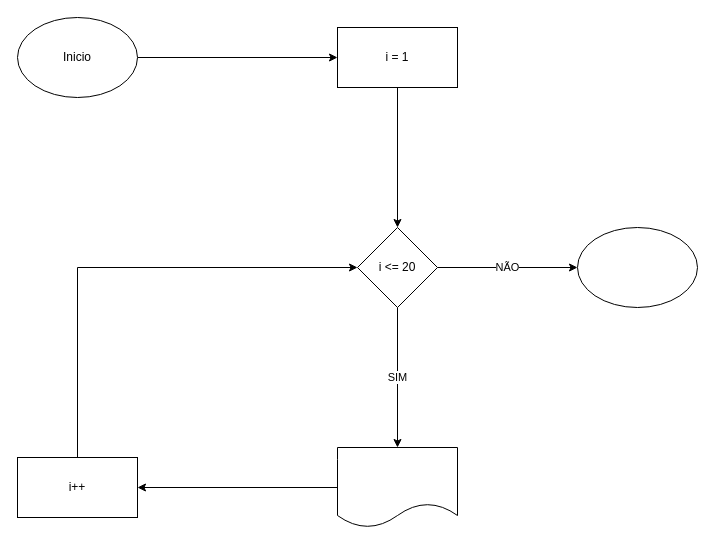
This 715x545 diagram has some shape labels left out. The shapes that lost their labels are listed below. From the top down, each one's centre as x and y in pixels, then its label:
At point (637, 267): "Fim".
At point (397, 487): "Eu gosto de estudar Algoritmos!".
